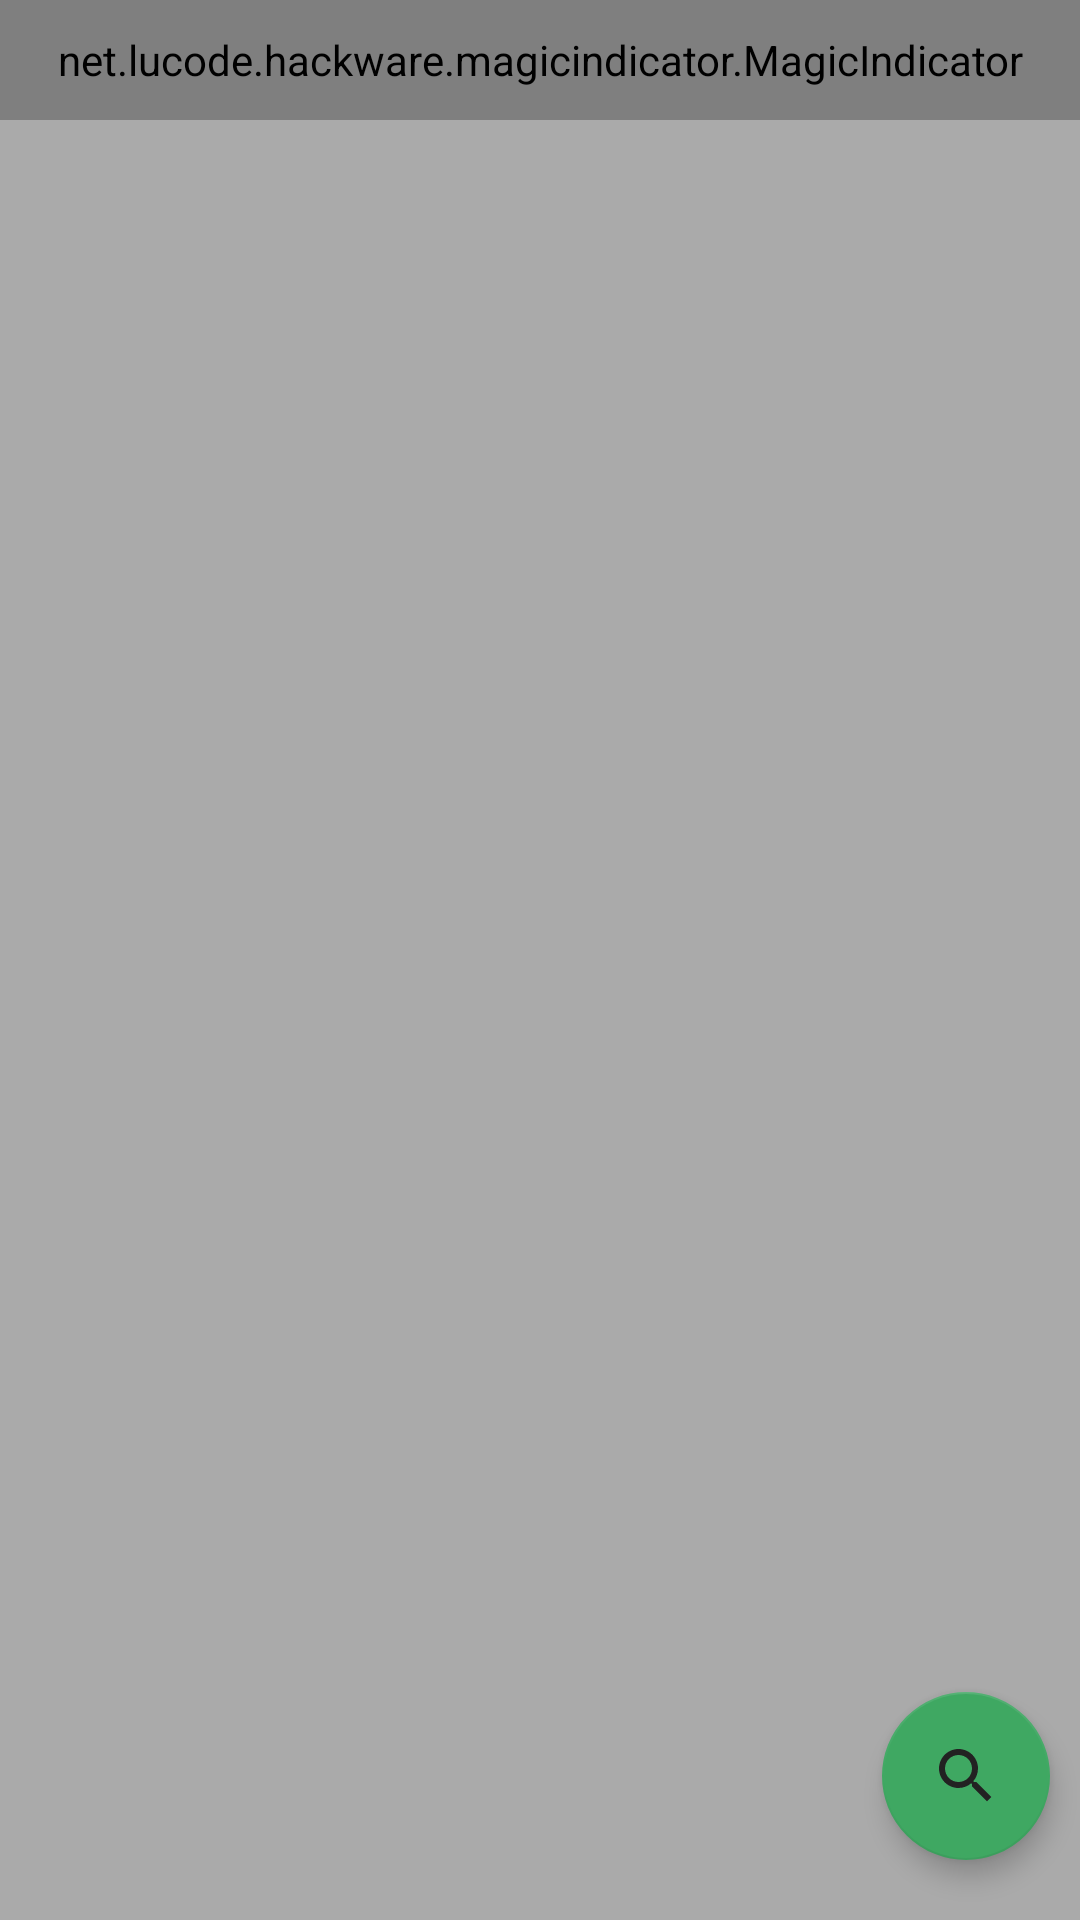

Named icons in this screenshot (1080px x 1920px) and their centers, (x=x, y=y):
search: (x=966, y=1776)
